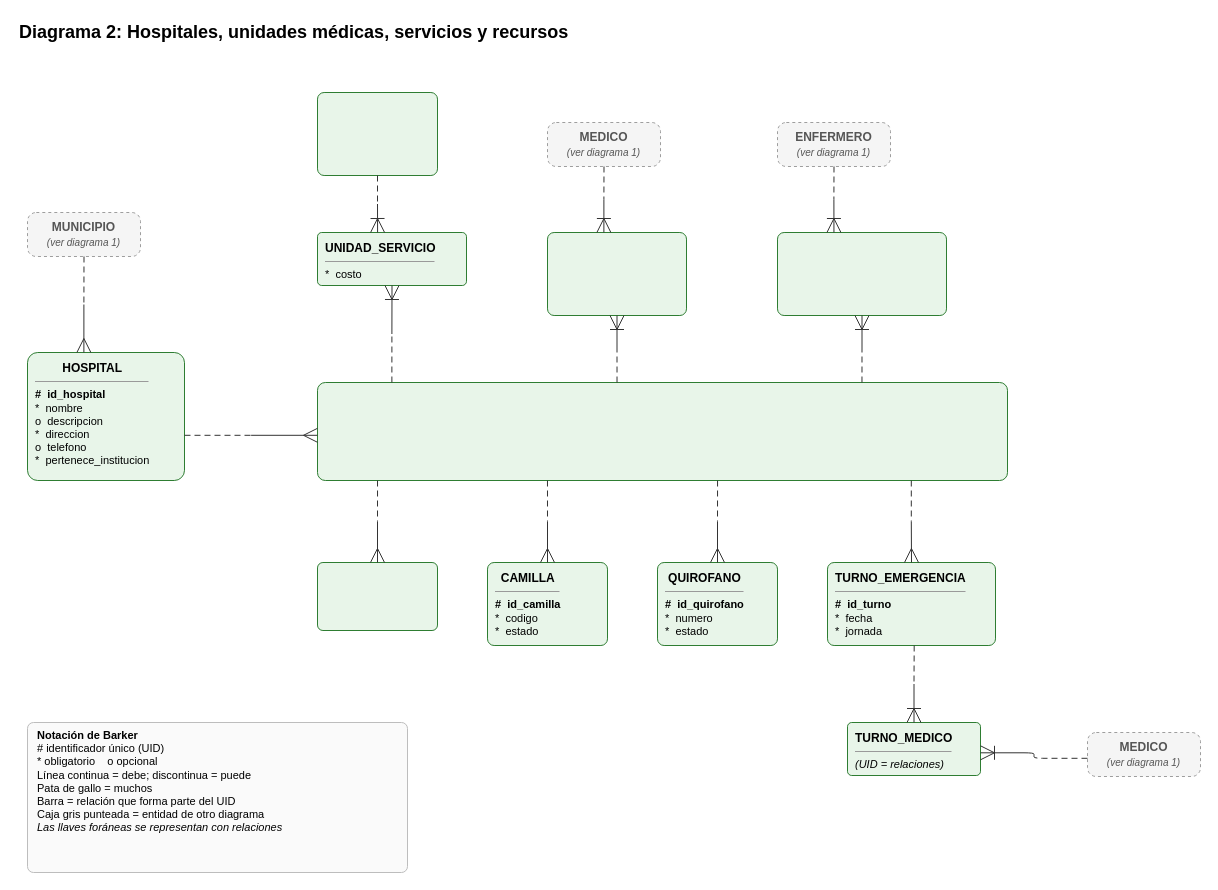
This 1218x890 diagram has some shape labels left out. The shapes that lost their labels are listed below. From the top down, each one's centre as x and y in pixels, then its label:
the point at 377,134: SERVICIO # id_servicio * nombre * tipo_unidad
the point at 616,274: MEDICO_UNIDAD * fecha_inicio * jornada * es_jefe
the point at 861,274: ENFERMERO_UNIDAD * fecha_inicio * jornada * es_jefe
the point at 662,431: UNIDAD_MEDICA # id_unidad * tipo_unidad o telefono o costo_dia
the point at 377,596: CLINICA # id_clinica * numero
